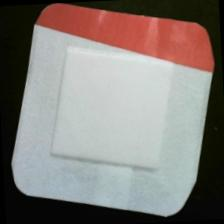Dressing: (2, 1, 224, 224)
Red_T: (23, 1, 217, 89)
